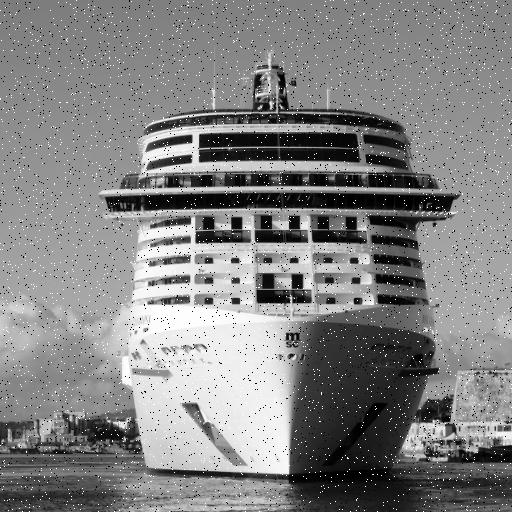cruises: (89, 54, 468, 481)
